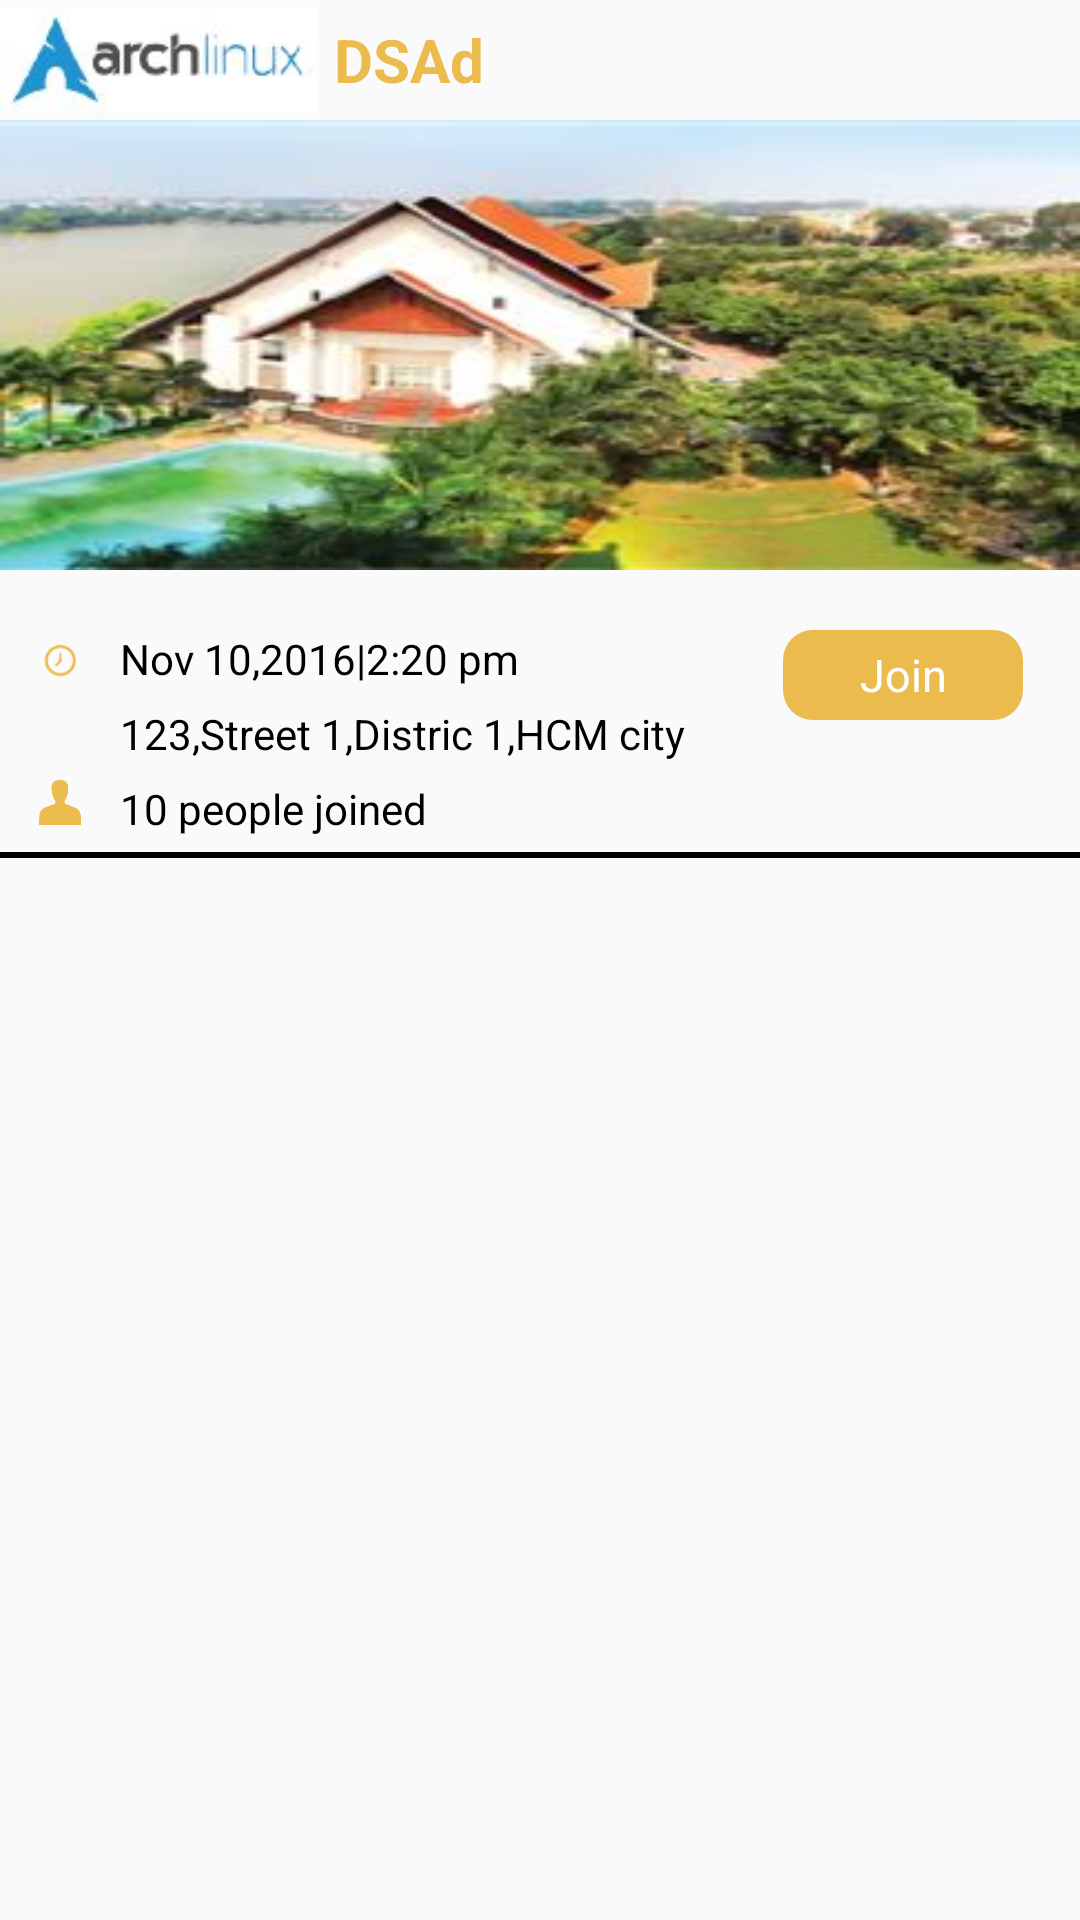

Where icons sit on this 1080w x 1920h app screen, as bbox=(x1, y1, x2, y2):
icontime: bbox=(44, 645, 76, 677)
user: bbox=(39, 780, 81, 825)
